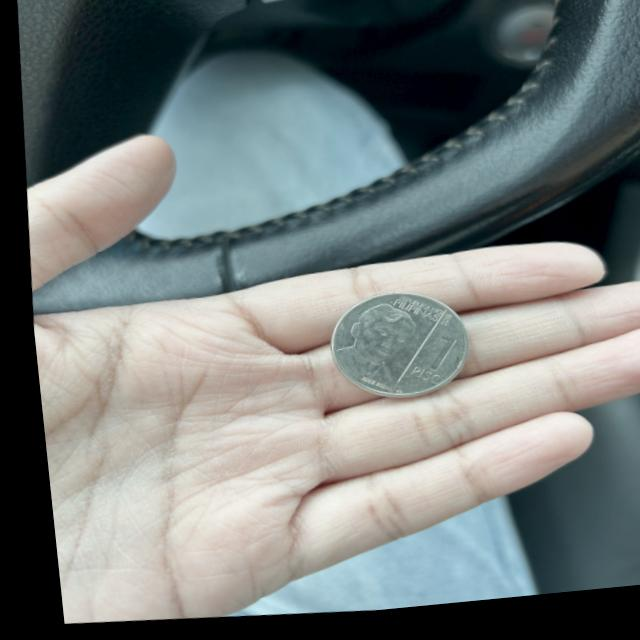1_New_Front: (393, 331, 449, 399)
